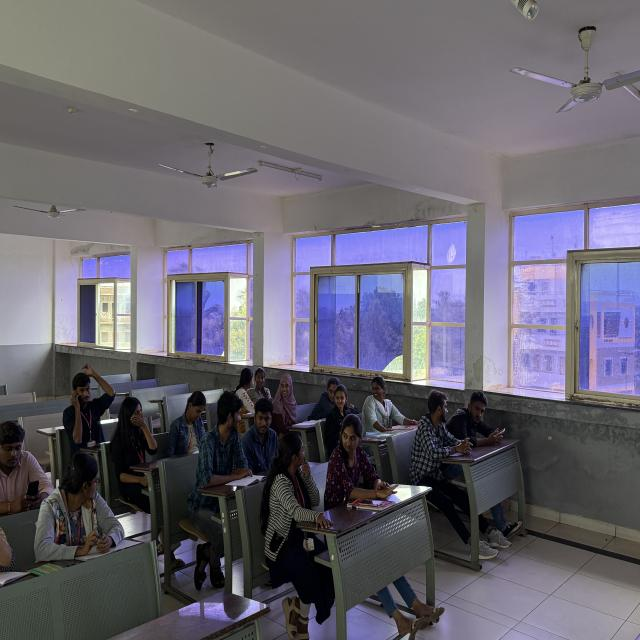Using Phone: (0, 416, 54, 514), (66, 361, 110, 447), (454, 386, 508, 452), (168, 388, 209, 460)
